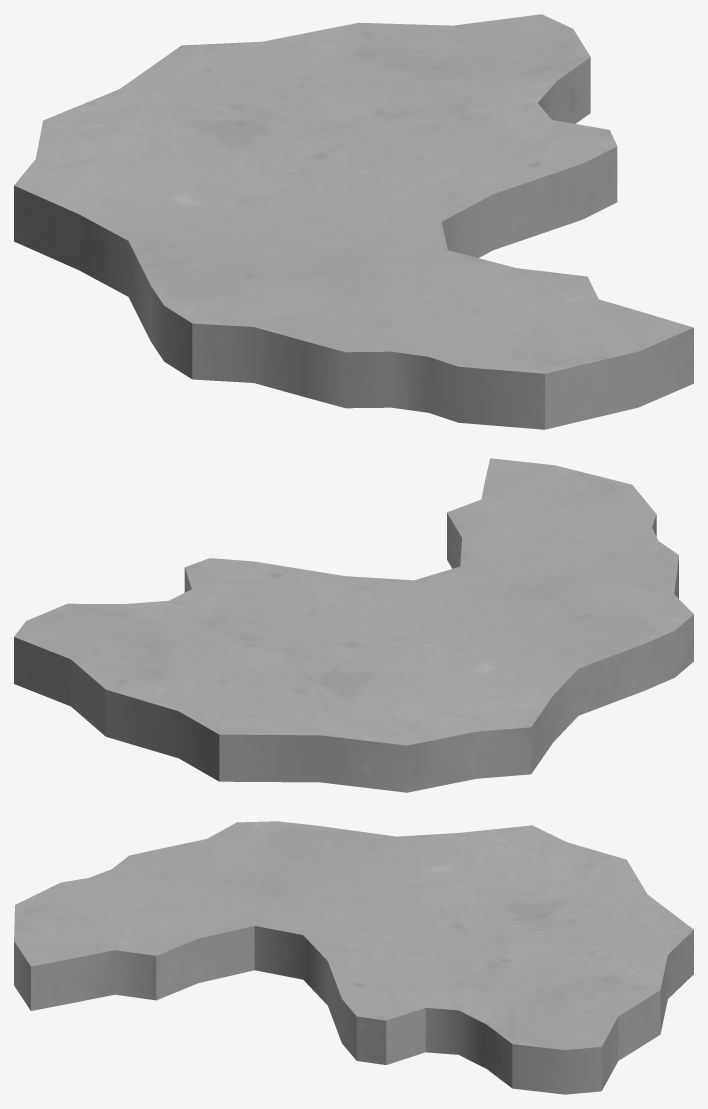
File: SM_Ground_Debris_S4.fbx
3 views of the same model, one above another, from view 1: azimuth 30°, elevation 25°; view 2: azimuth 150°, elevation 25°; view 3: azimuth 270°, elevation 25° (orthographic). The views are drawn at different scales.
Parts seen in each view (by area): view 1: SM_Ground_Debris_S4_LOD0; view 2: SM_Ground_Debris_S4_LOD0; view 3: SM_Ground_Debris_S4_LOD0.
Part boxes in pixels (box(x1,y1,x2,y2)): SM_Ground_Debris_S4_LOD0: box(14, 14, 693, 429); SM_Ground_Debris_S4_LOD0: box(14, 458, 693, 792); SM_Ground_Debris_S4_LOD0: box(14, 821, 693, 1094).
Size of the model in its own units: 71.47 by 89.73 by 6.48.
1 material, 1 textured.
